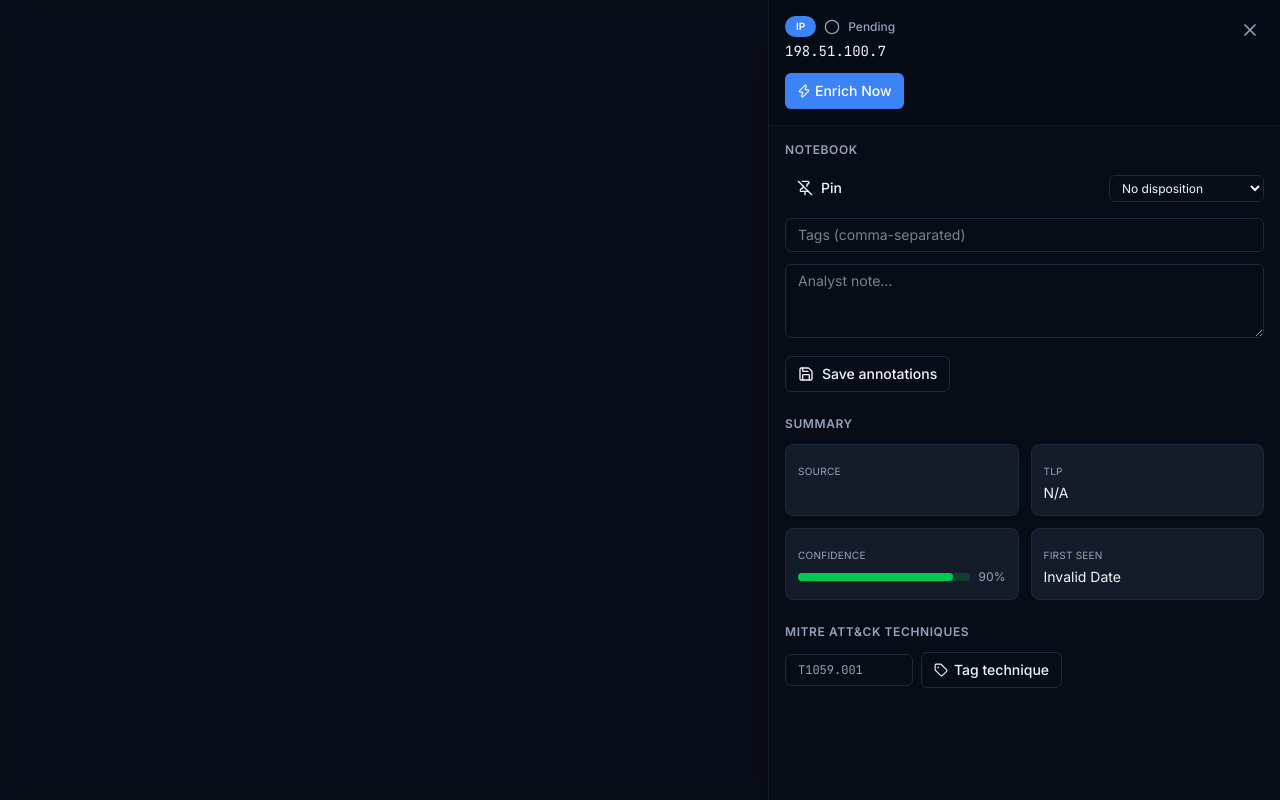
Test: IOCDetailPanel MITRE tagging › surfaces the server's refusal verbatim
This screenshot has width=1280, height=800.
Type "T9999" into the field with test id "ioc-detail-tag-input" at (849, 670), box x1=785 y1=654 x2=913 y2=686
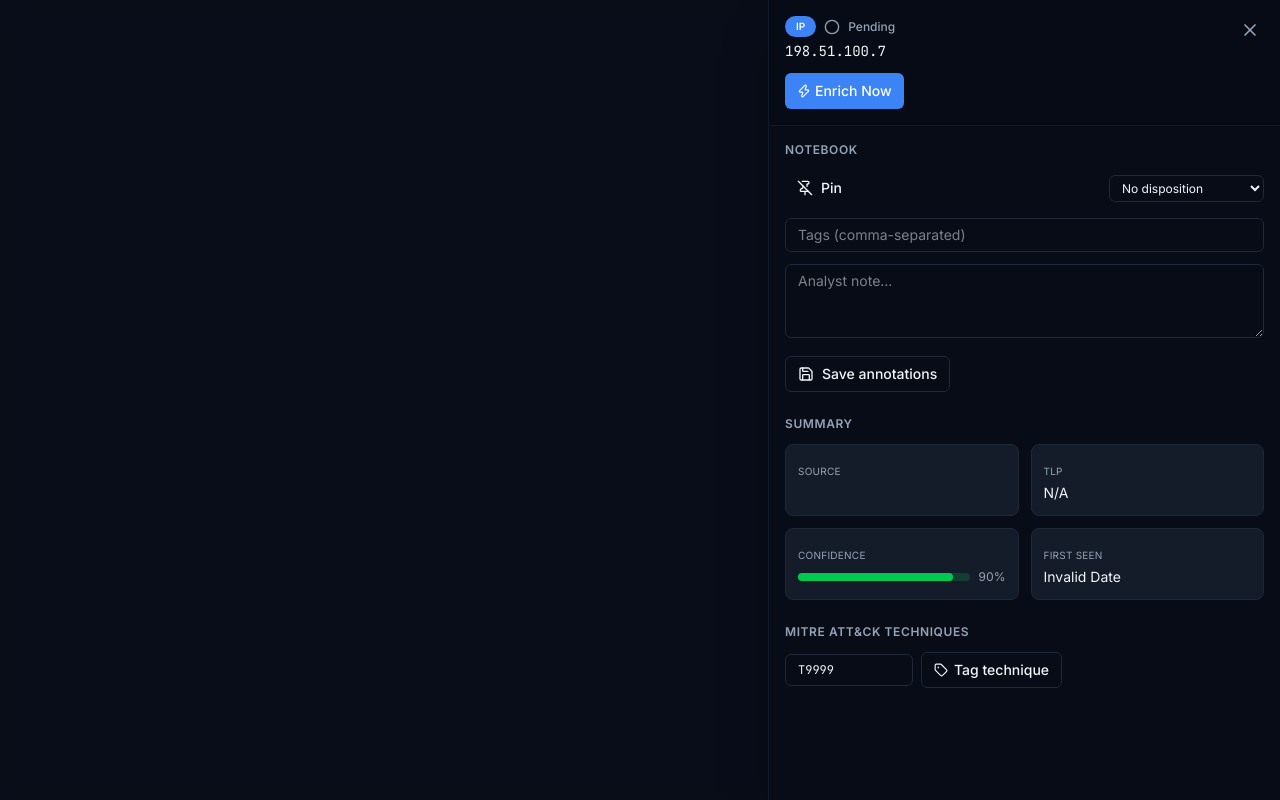
Click the button with test id "ioc-detail-tag-submit" at (992, 670), box x1=921 y1=652 x2=1062 y2=688
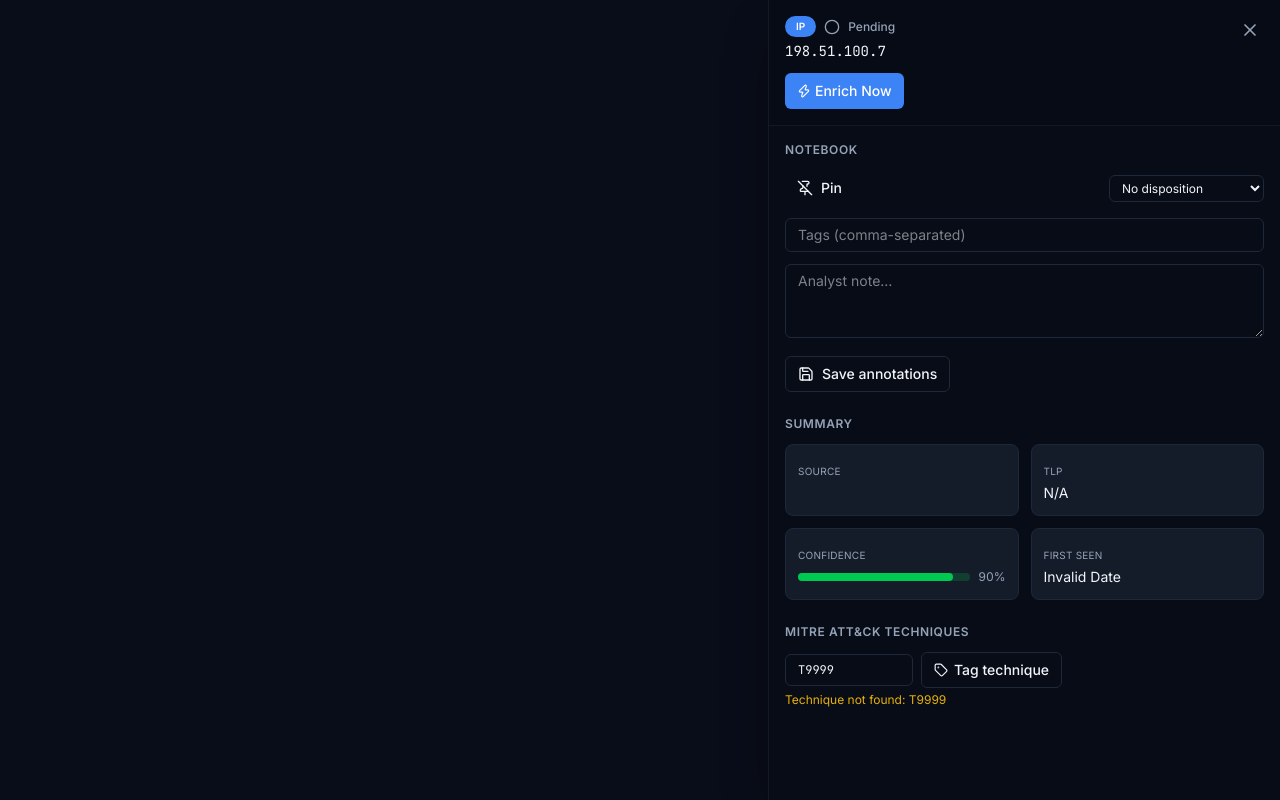
Expected: the message with test id "ioc-detail-tag-error" shows "Technique not found", x1=785 y1=692 x2=946 y2=707
